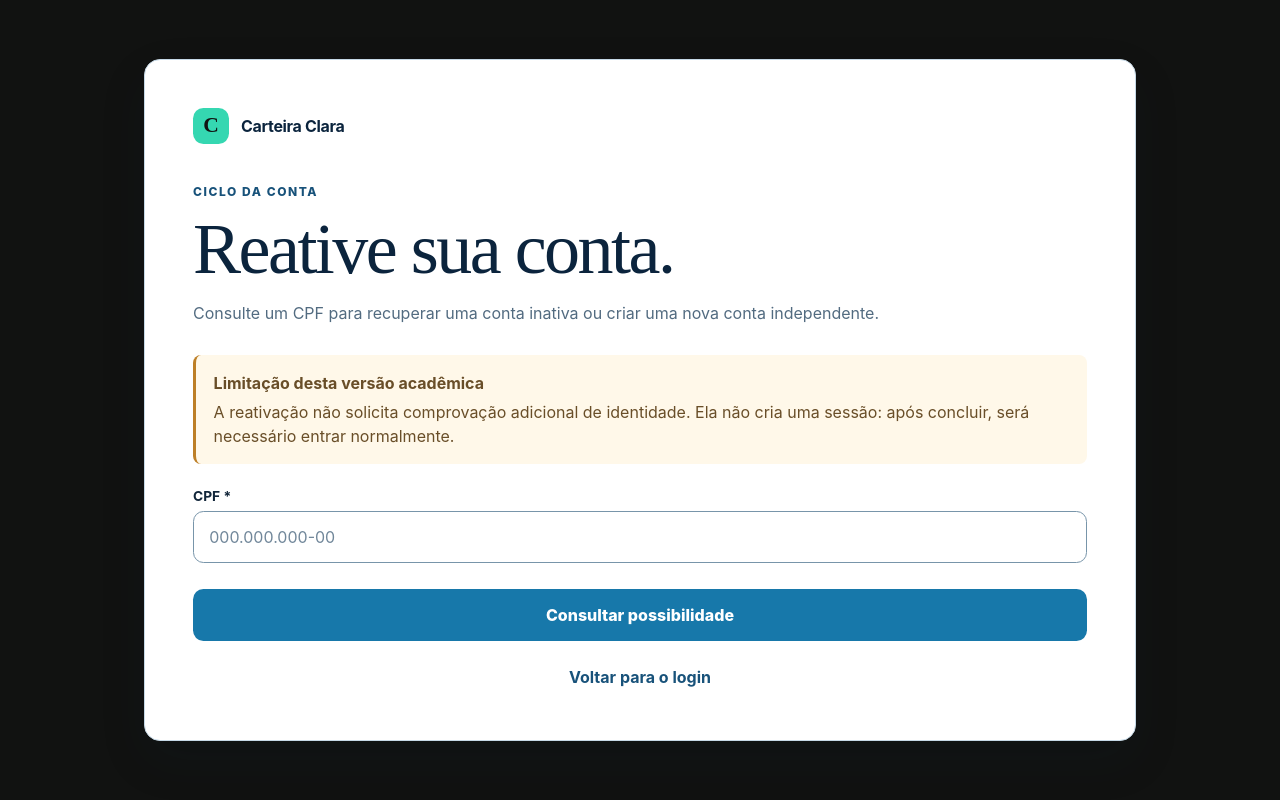
ReactivationPage › é acessível diretamente e exige CPF antes da consulta
Expected: the heading "Reative sua conta." is shown, [193,209,673,289]
Click the button "Consultar possibilidade": (640, 615) [193,589,1087,641]
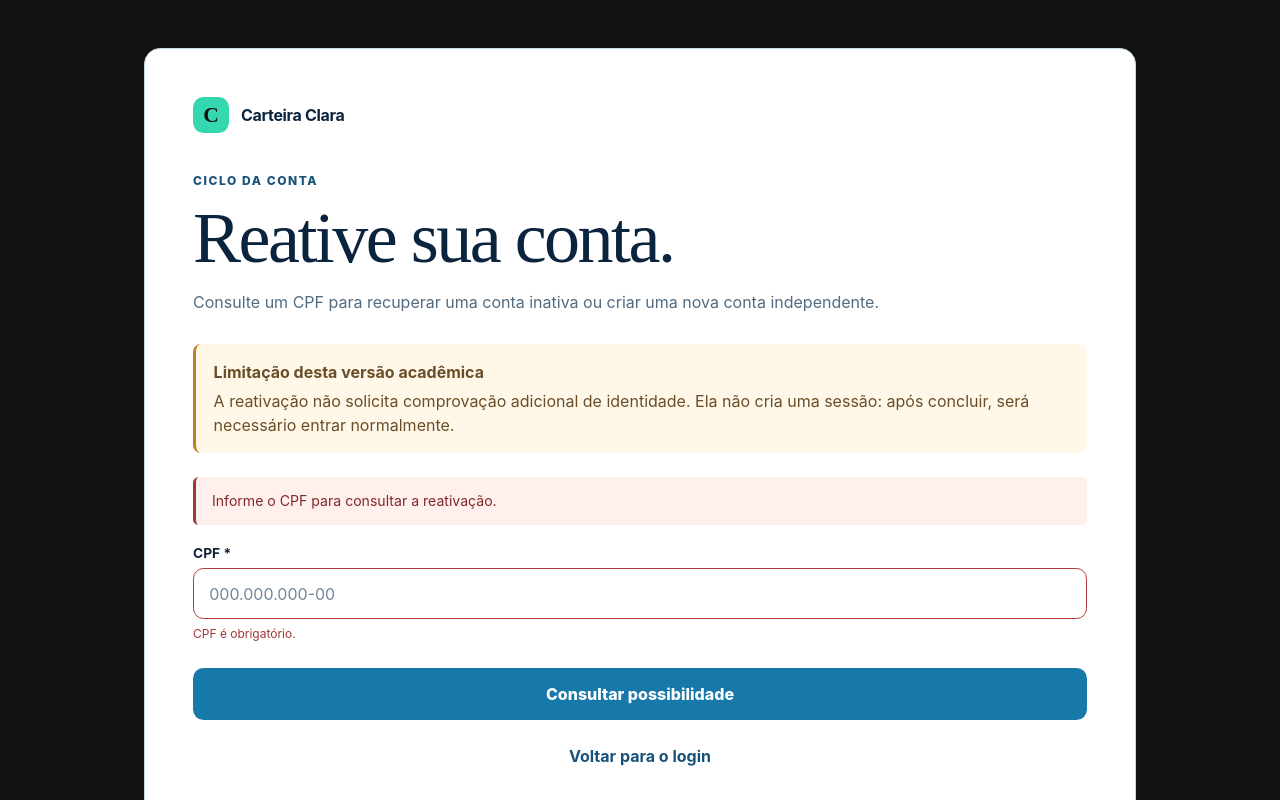
Expected: the text "CPF é obrigatório." is shown, [193,626,296,641]
